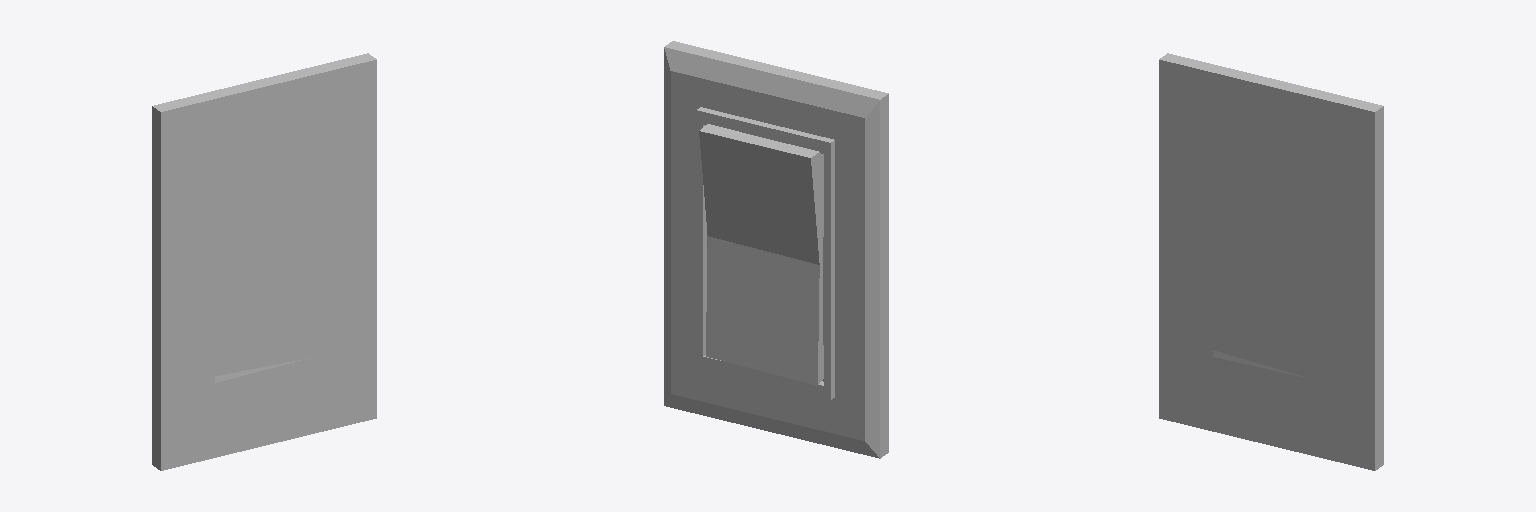
Rendered from lightswitch.obj.
3 views of the same model, side by side, from view 1: azimuth 30°, elevation 25°; view 2: azimuth 150°, elevation 25°; view 3: azimuth 330°, elevation 25° (orthographic).
Bounding box in the file's own units: 0.29 × 0.46 × 0.0606.